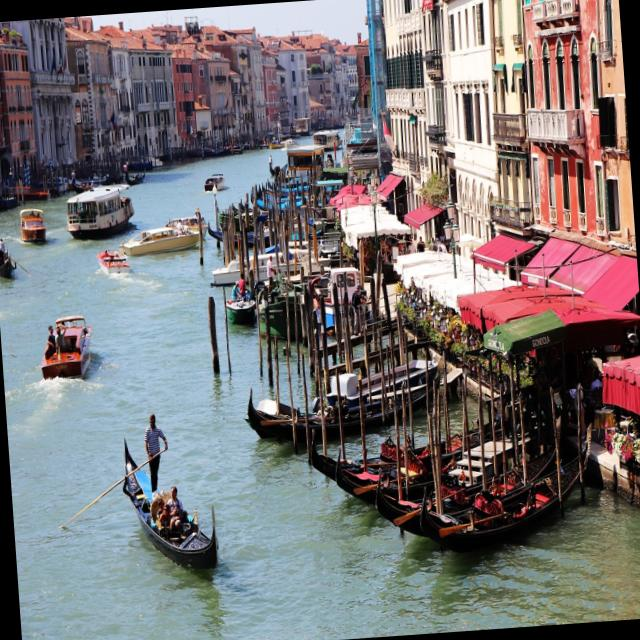boat: (94, 397, 241, 605)
